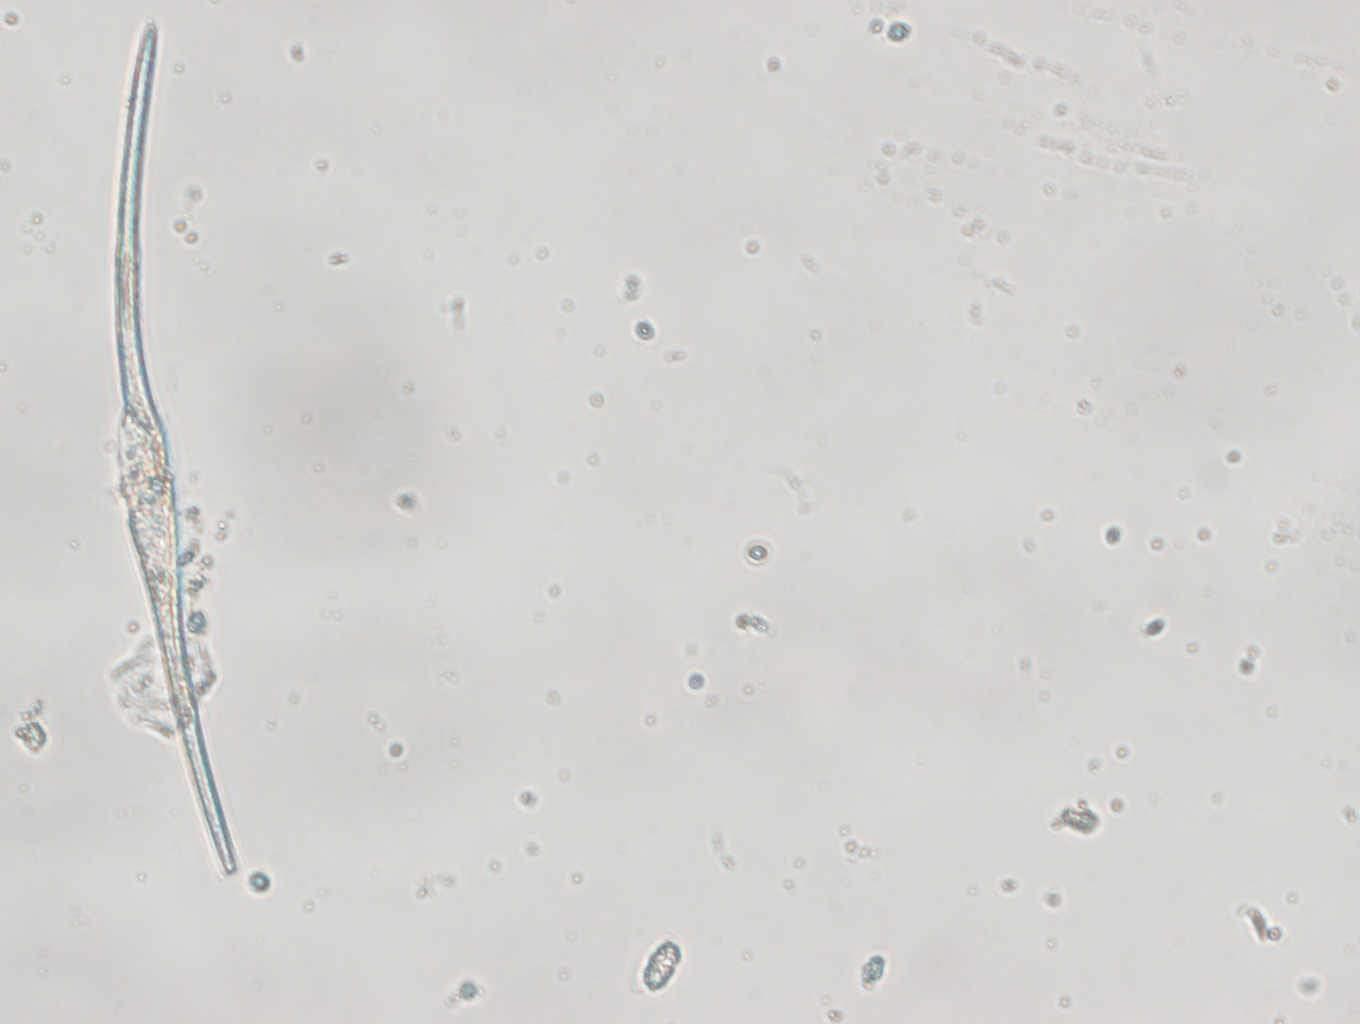ceratium fusus: (111, 11, 241, 879)
